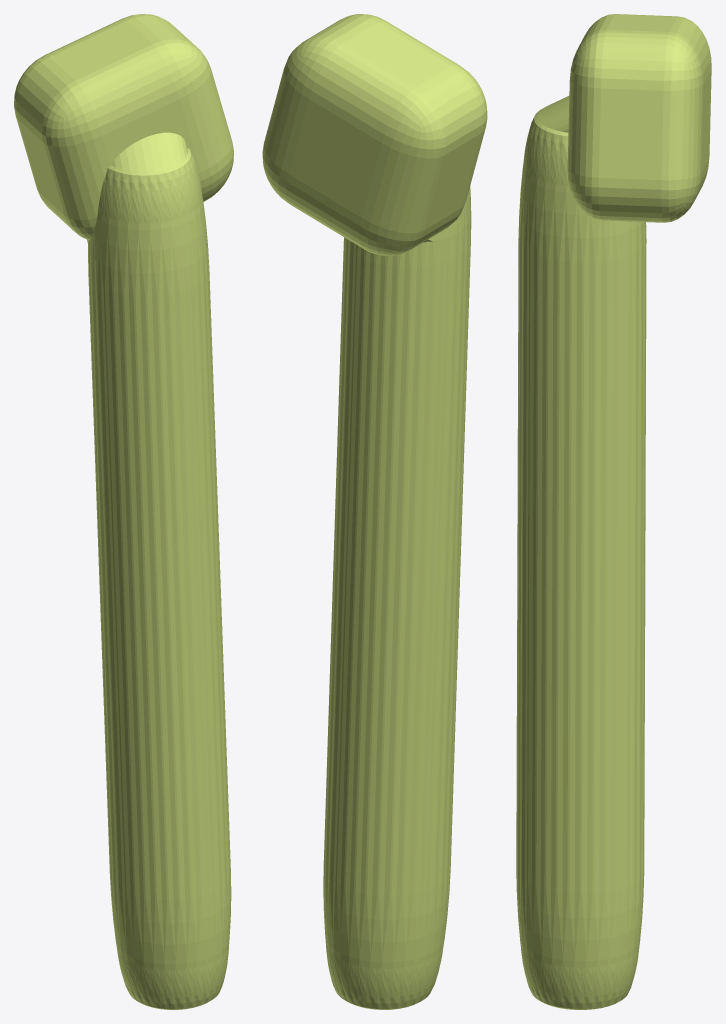
File: knee_left.dae
3 views of the same model, side by side, from view 1: azimuth 30°, elevation 25°; view 2: azimuth 150°, elevation 25°; view 3: azimuth 270°, elevation 25° (orthographic). The views are drawn at different scales.
Visible parts, largest first — view 1: right_knee; view 2: right_knee; view 3: right_knee.
Boxes of the visible parts, x1,y1,x2,y2 form: right_knee: (14, 14, 233, 1009); right_knee: (262, 14, 487, 1009); right_knee: (516, 14, 711, 1009).
Bounding box in the file's own units: 0.0519 × 0.0465 × 0.2524.
